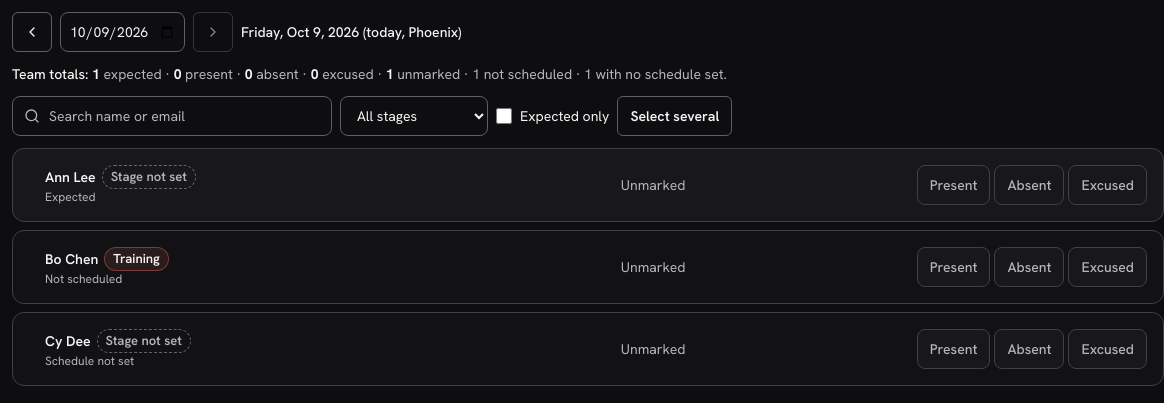
Test: Attendance: one day, one tap › a mark that does not land goes back and says so; a mark changed elsewhere shows the saved one
This screenshot has width=1164, height=403.
Earlier steps of the test are not shown.
Click the button with aria-label "Present for Ann Lee" at [954, 185], box [917, 165, 990, 205]
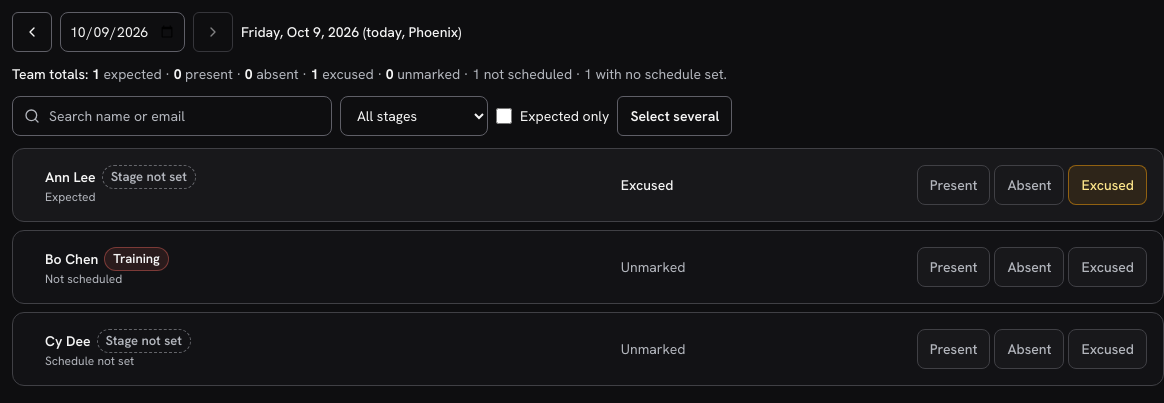
Expected: the button with aria-label "Excused for Ann Lee" is pressed, [1068, 165, 1147, 205]
